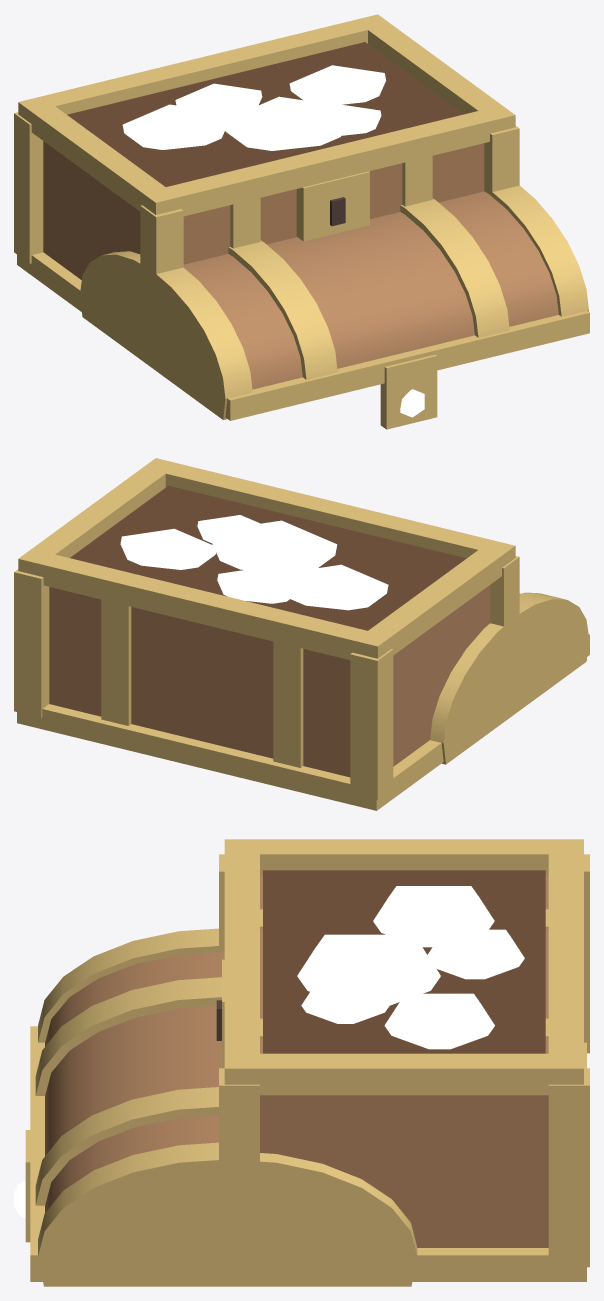
File: chest.glb
3 renders of one model, top to bottom at view 1: azimuth 30°, elevation 25°; view 2: azimuth 150°, elevation 25°; view 3: azimuth 270°, elevation 25°, orthographic. The views are drawn at different scales.
Visible parts, largest first — view 1: Chest, ChestLid; view 2: Chest, ChestLid; view 3: Chest, ChestLid.
Boxes of the visible parts, <box> form: Chest: <box>14,14,519,354</box>; ChestLid: <box>80,185,589,429</box>; Chest: <box>14,458,519,810</box>; ChestLid: <box>430,592,589,764</box>; Chest: <box>216,839,589,1281</box>; ChestLid: <box>14,928,417,1286</box>.
Bounding box in the file's own units: 0.93 × 0.5216 × 0.9779.
